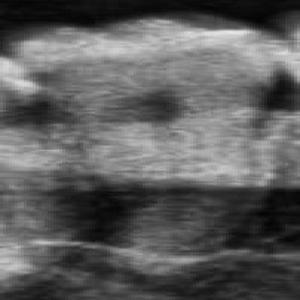tooth: (15, 15, 279, 266)
